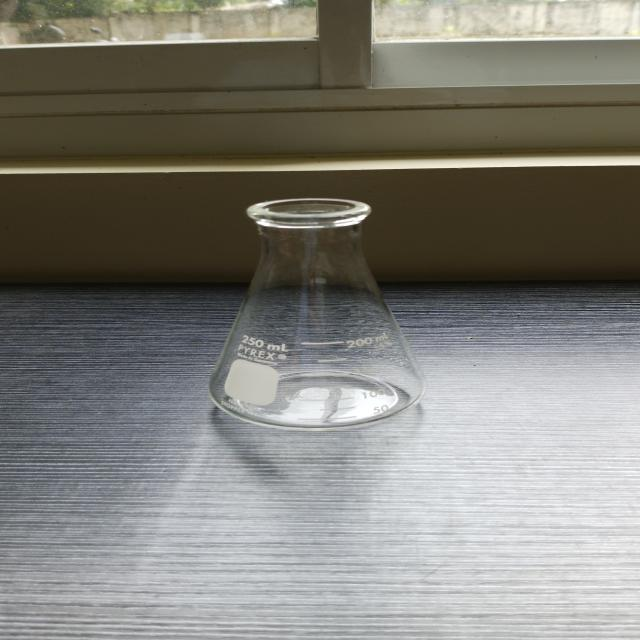erlenmeyer_flask: (204, 191, 430, 437)
